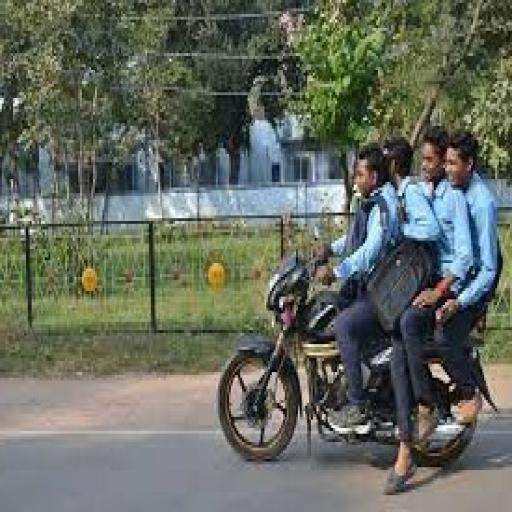overloading: (214, 241, 495, 481)
